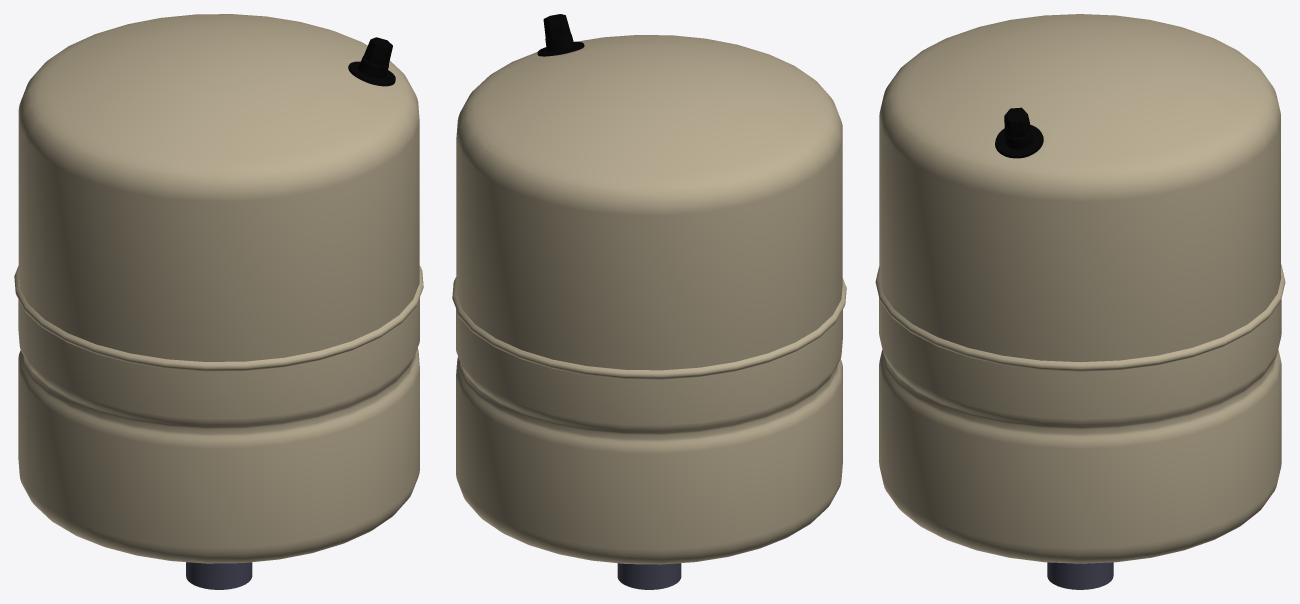
Rendered from 12lt-sabit-tank-dikey.obj.
The picture shows the model from 3 angles, left to right: view 1: azimuth 30°, elevation 25°; view 2: azimuth 150°, elevation 25°; view 3: azimuth 270°, elevation 25°; orthographic projection. The views are drawn at different scales.
Visible parts, largest first — view 1: 12lt-sabit-tank.007, 12lt-sabit-tank.002, 12lt-sabit-tank.006, 12lt-sabit-tank.008, 12lt-sabit-tank.001; view 2: 12lt-sabit-tank.007, 12lt-sabit-tank.002, 12lt-sabit-tank.006, 12lt-sabit-tank.008, 12lt-sabit-tank.001; view 3: 12lt-sabit-tank.007, 12lt-sabit-tank.002, 12lt-sabit-tank.006, 12lt-sabit-tank.001, 12lt-sabit-tank.008.
Part boxes in pixels (x1,y1,x2,y2): 12lt-sabit-tank.007: (18,14,419,361); 12lt-sabit-tank.002: (18,280,419,563); 12lt-sabit-tank.006: (14,265,423,371); 12lt-sabit-tank.008: (186,562,252,589); 12lt-sabit-tank.001: (348,37,395,86); 12lt-sabit-tank.007: (456,35,842,370); 12lt-sabit-tank.002: (456,309,842,564); 12lt-sabit-tank.006: (452,277,846,379); 12lt-sabit-tank.008: (617,563,681,589); 12lt-sabit-tank.001: (537,14,584,56); 12lt-sabit-tank.007: (879,14,1280,362); 12lt-sabit-tank.002: (879,298,1281,563); 12lt-sabit-tank.006: (875,264,1285,371); 12lt-sabit-tank.001: (995,107,1043,158); 12lt-sabit-tank.008: (1047,562,1113,589).
Size of the model in its own units: 8.1 by 11.5 by 8.1.
